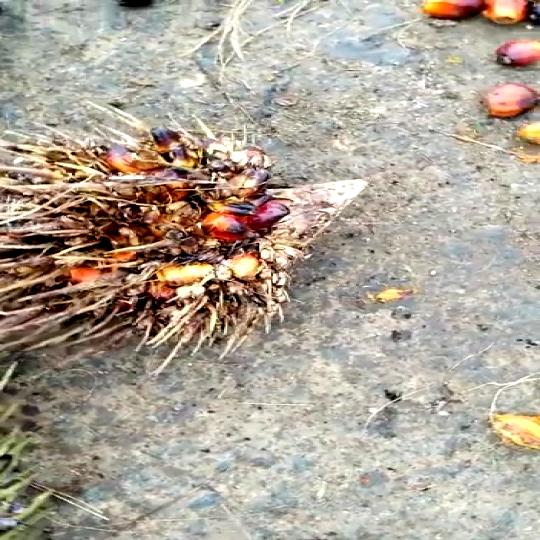terlalu masak: (0, 92, 373, 351)
